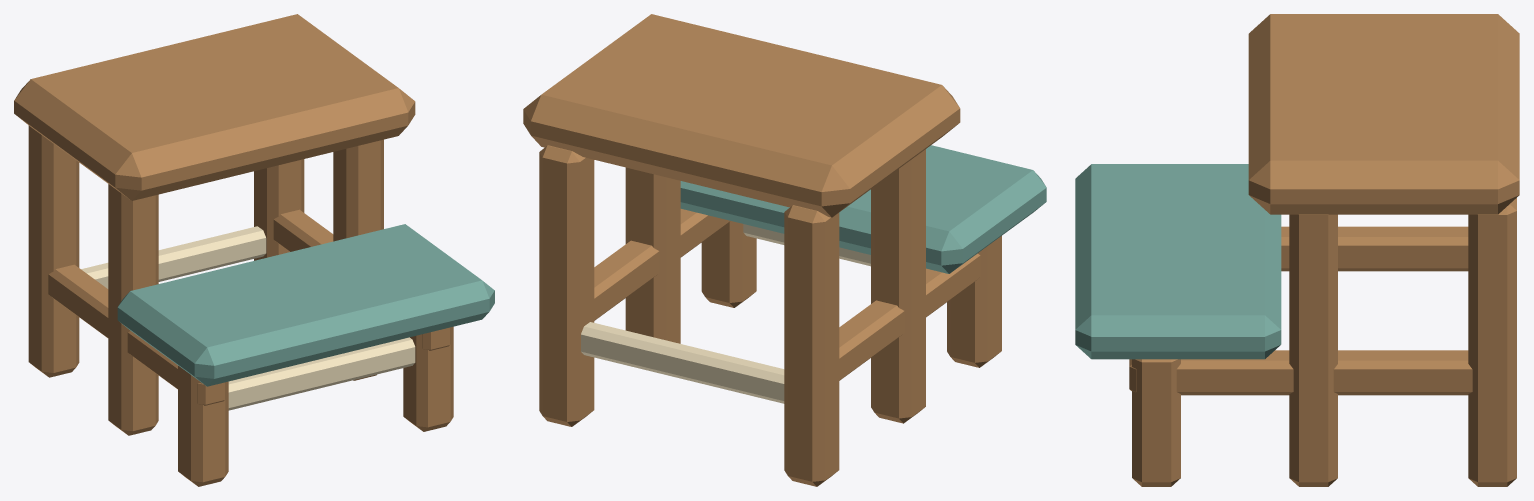
The picture shows the model from 3 angles, left to right: view 1: azimuth 30°, elevation 25°; view 2: azimuth 150°, elevation 25°; view 3: azimuth 270°, elevation 25°; orthographic projection. The views are drawn at different scales.
Parts seen in each view (by area): view 1: kitchen-step-stool-01; view 2: kitchen-step-stool-01; view 3: kitchen-step-stool-01.
Boxes of the visible parts, x1,y1,x2,y2 form: kitchen-step-stool-01: [14, 14, 494, 486]; kitchen-step-stool-01: [523, 14, 1046, 486]; kitchen-step-stool-01: [1075, 14, 1519, 486].
Bounding box in the file's own units: 0.36 × 0.3375 × 0.41.
